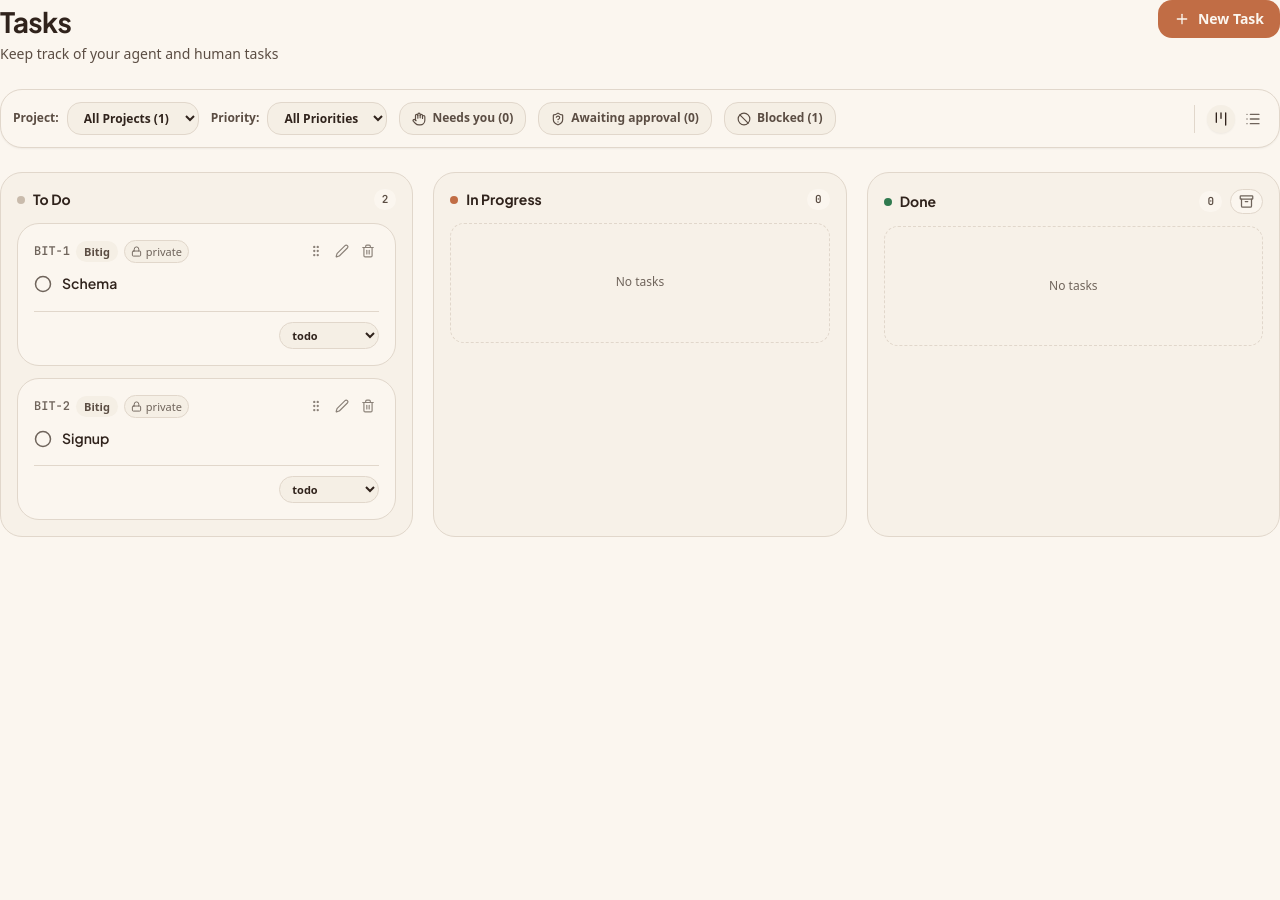
Test: completing a task with unfinished dependencies › asks first, and completes it with a logged override when the person confirms
Expected: the button "Signup" is shown, [62,428,110,449]
Click the button titled "Mark as Done" below "BIT-2" at (43, 438), box [34,430,52,448]
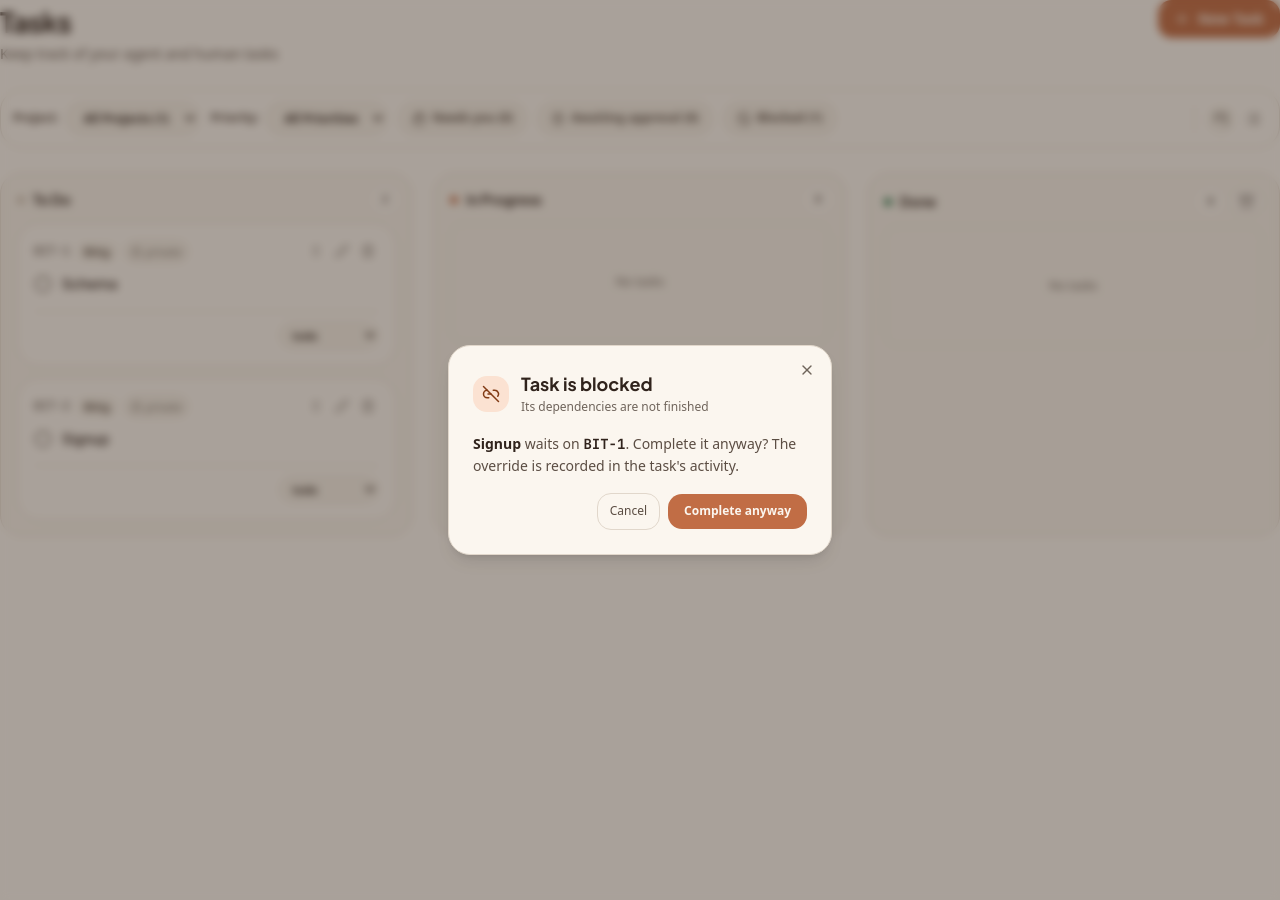
Now the dialog "Task is blocked" shows "waits on BIT-1"
Click the button "Complete anyway" at (738, 511), box [668,494,807,529]
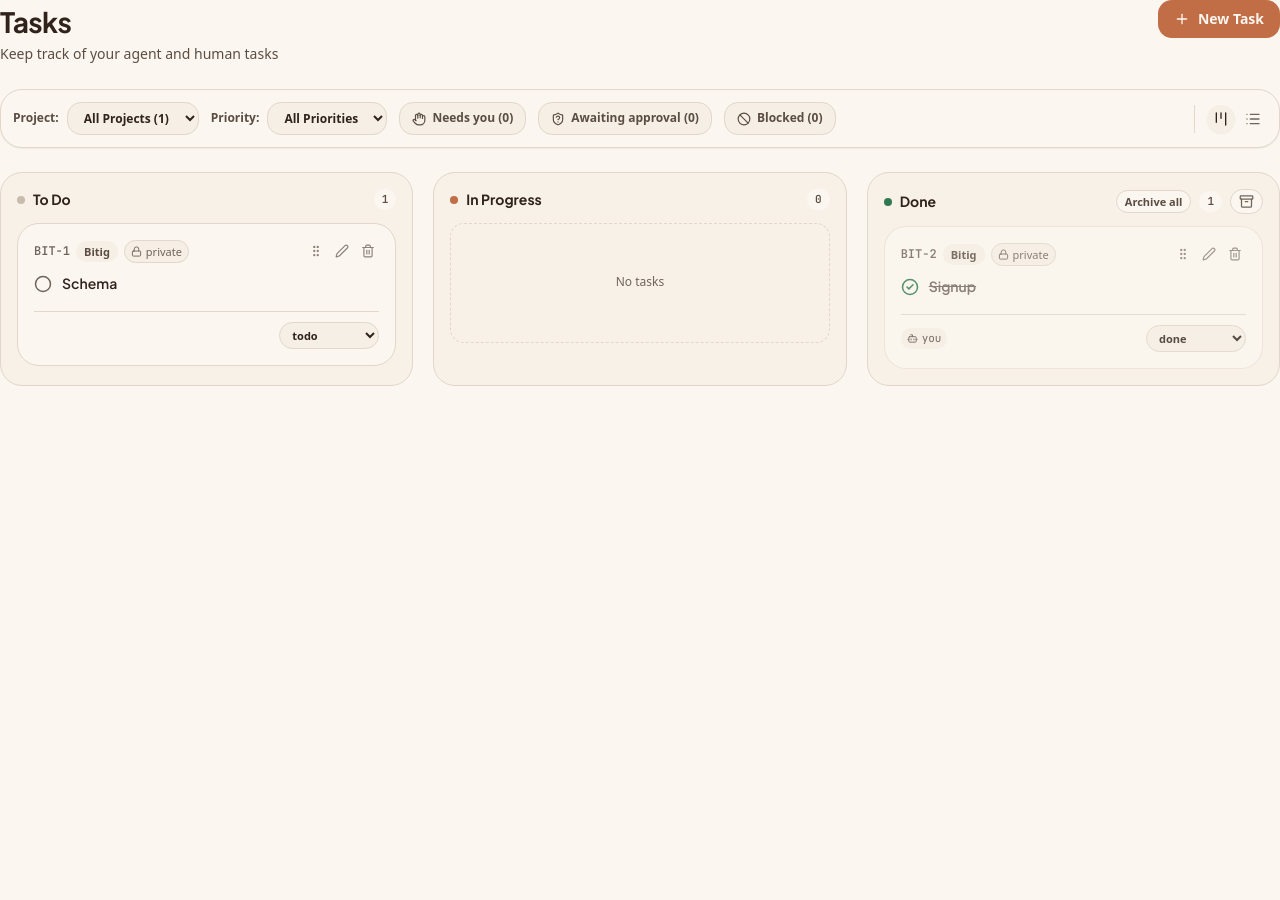
Now the heading "Task is blocked" is gone
